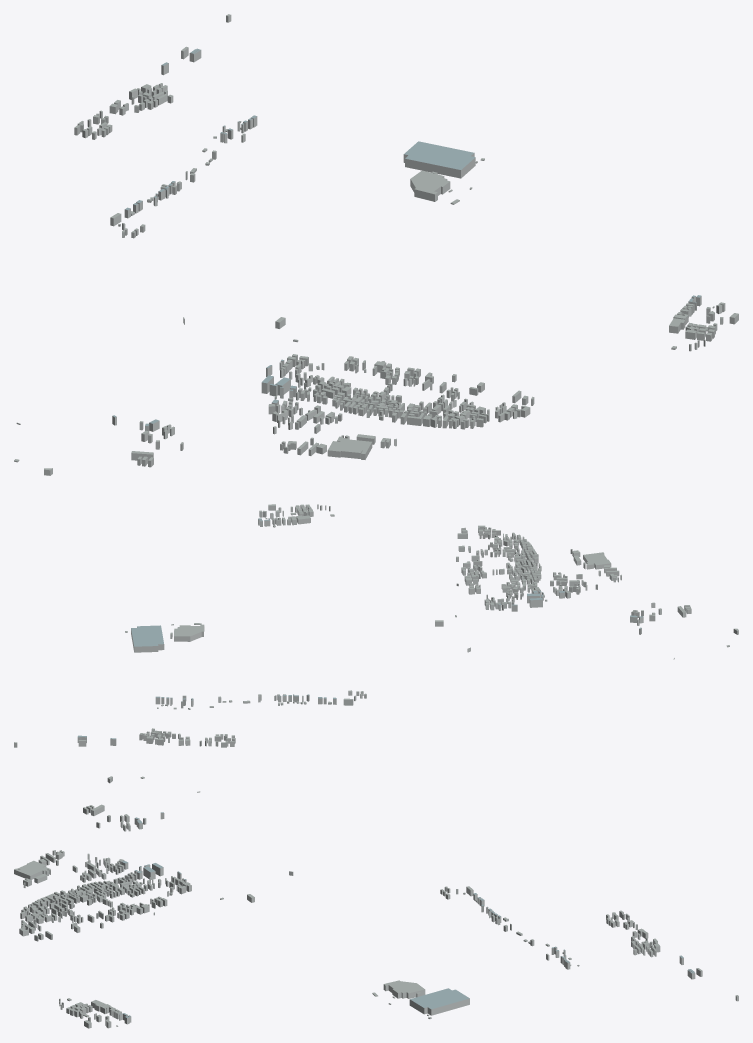
Rendered from far.glb.
3 views of the same model, one above another, from view 1: azimuth 30°, elevation 25°; view 2: azimuth 150°, elevation 25°; view 3: azimuth 270°, elevation 25° (orthographic). The views are drawn at different scales.
Bounding box in the file's own units: 1621 × 24.1 × 1976.
